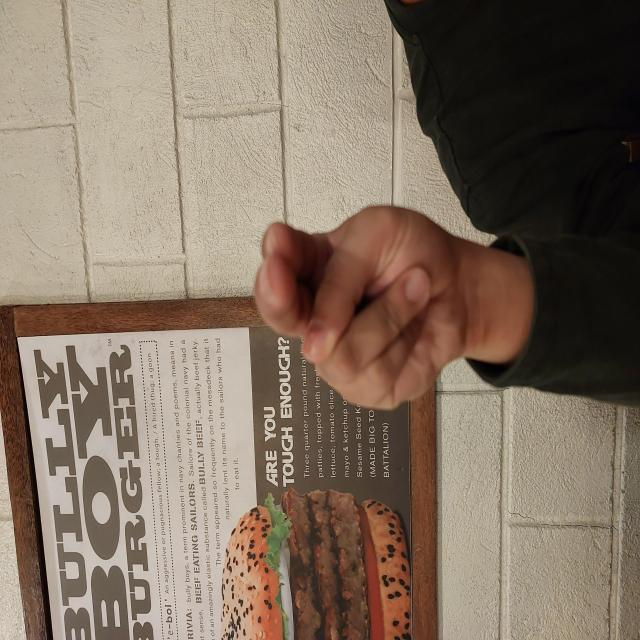N: (229, 250, 437, 470)
